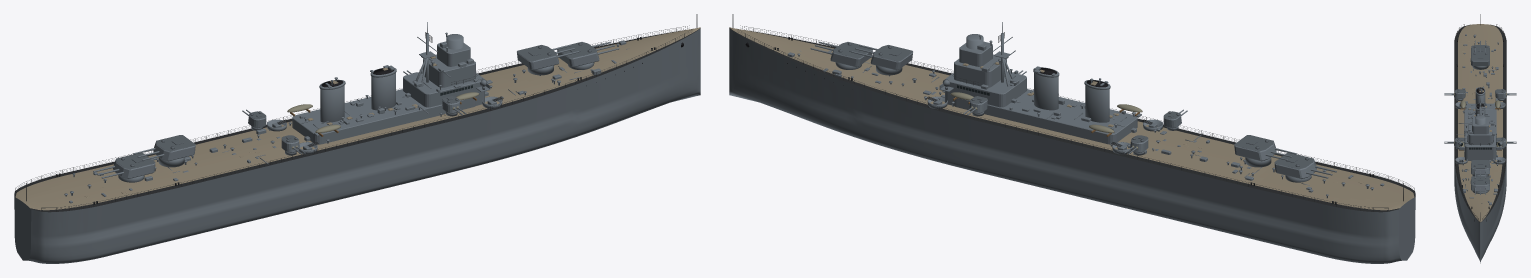
The model's file is cleveland.glb.
3 views of the same model, side by side, from view 1: azimuth 30°, elevation 25°; view 2: azimuth 150°, elevation 25°; view 3: azimuth 270°, elevation 25° (orthographic). The views are drawn at different scales.
Parts seen in each view (by area): view 1: cleveland, T_2_malla, T_3_malla, T_1_malla, T_0_malla; view 2: cleveland, T_2_malla, T_3_malla, T_1_malla, T_0_malla; view 3: cleveland, T_0_malla, T_1_malla, T_2_malla, T_3_malla, T_6_malla, T_7_malla, T_4_malla, T_5_malla.
Boxes of the visible parts, <box> form: cleveland: <box>14,14,700,263</box>; T_2_malla: <box>153,135,195,161</box>; T_3_malla: <box>113,153,155,178</box>; T_1_malla: <box>517,45,559,70</box>; T_0_malla: <box>557,42,599,67</box>; cleveland: <box>729,14,1415,263</box>; T_2_malla: <box>1234,135,1276,161</box>; T_3_malla: <box>1274,153,1316,178</box>; T_1_malla: <box>870,45,912,70</box>; T_0_malla: <box>830,42,872,67</box>; cleveland: <box>1454,14,1506,263</box>; T_0_malla: <box>1471,176,1489,191</box>; T_1_malla: <box>1471,160,1489,174</box>; T_2_malla: <box>1471,52,1489,65</box>; T_3_malla: <box>1471,45,1489,54</box>; T_6_malla: <box>1454,89,1465,98</box>; T_7_malla: <box>1495,89,1506,98</box>; T_4_malla: <box>1454,137,1464,147</box>; T_5_malla: <box>1496,137,1506,147</box>.
Size of the model in its own units: 185 by 36.5 by 27.86.
